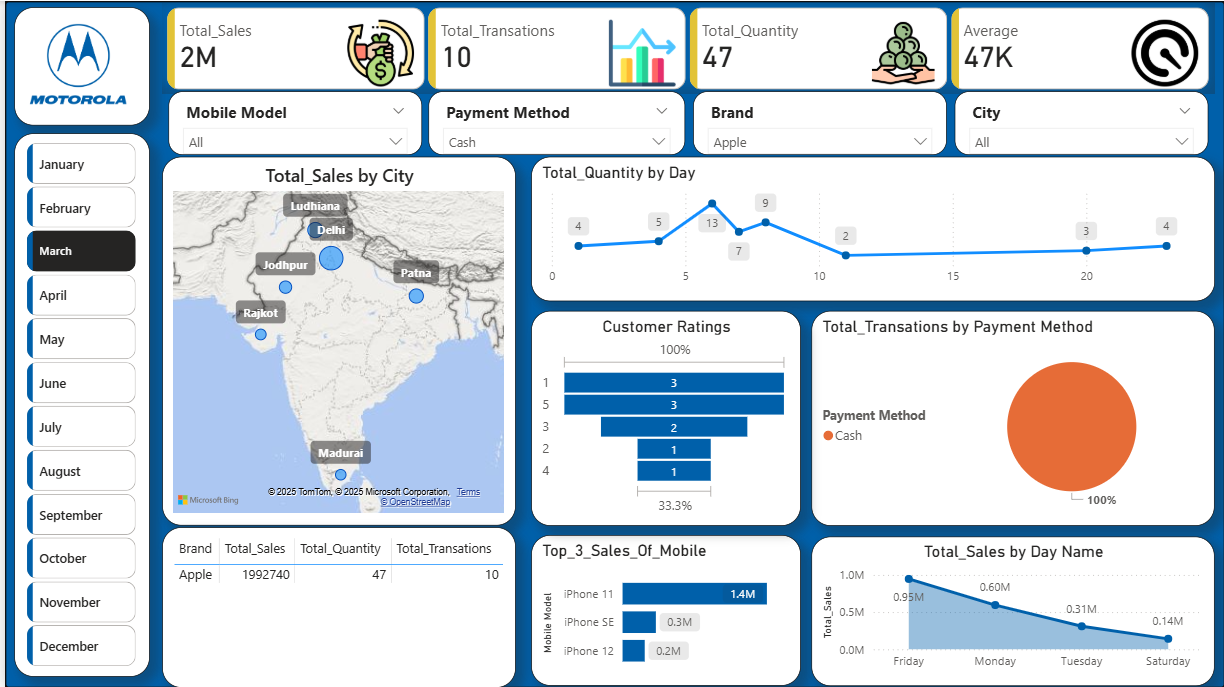

The dashboard page shown, as its layout file describes it:
{"tool":"powerbi","page":{"name":"Page 1","canvas":[1280,720],"ordinal":0},"visuals":[{"type":"shape","box":[9.8,6.5,142,124],"z":0},{"type":"image","box":[19.6,0,114.3,132.2],"z":1000},{"type":"shape","box":[9.8,138.7,142,569.7],"z":2000},{"type":"advancedSlicerVisual","fields":{"Values":["Sheet1.Date.Variation.Date Hierarchy.Month"]},"box":[18,143.6,124.1,564.8],"z":3000},{"type":"cardVisual","fields":{"Data":["Sales_data.Total_Sales","Sales_data.Total_Transations","Sales_data.Total_Quantity","Sales_data.Average"]},"box":[164.9,1.6,1103.4,96.3],"z":4000},{"type":"map","fields":{"Category":["Sales_data.City"],"Size":["Sales_data.Total_Sales"]},"box":[164.9,163.2,370.5,386.8],"z":5000},{"type":"lineChart","fields":{"Category":["Sales_data.Date.Variation.Date Hierarchy.Month","Sales_data.Date.Variation.Date Hierarchy.Day"],"Y":["Sales_data.Total_Quantity"]},"box":[551.7,163.2,716.6,151.8],"z":6000},{"type":"clusteredBarChart","title":"Top_3_Sales_Of_Mobile","fields":{"Category":["Sales_data.Mobile Model"],"Y":["Sales_data.Total_Sales"]},"box":[551.7,559.9,282.4,158.3],"z":7000},{"type":"pieChart","fields":{"Y":["Sales_data.Total_Transations"],"Category":["Sales_data.Payment Method"]},"box":[845.5,324.8,422.8,225.3],"z":8000},{"type":"funnel","title":"Customer Ratings ","fields":{"Category":["Sales_data.Customer Ratings"],"Y":["CountNonNull(Sales_data.Customer Ratings)"]},"box":[551.7,324.8,282.4,225.3],"z":9000},{"type":"areaChart","fields":{"Category":["Sales_data.Day Name"],"Y":["Sales_data.Total_Sales"]},"box":[845.5,561.5,422.8,156.7],"z":10000},{"type":"tableEx","fields":{"Values":["Sales_data.Brand","Sales_data.Total_Sales","Sales_data.Total_Quantity","Sales_data.Total_Transations"]},"box":[164.9,551.7,370.5,168.1],"z":11000},{"type":"slicer","fields":{"Values":["Sales_data.Mobile Model"]},"box":[171.4,94.7,266.1,66.9],"z":12000},{"type":"slicer","fields":{"Values":["Sales_data.Payment Method"]},"box":[444,94.7,269.3,66.9],"z":13000},{"type":"slicer","fields":{"Values":["Sales_data.Brand"]},"box":[721.5,94.7,266.1,66.9],"z":14000},{"type":"slicer","fields":{"Values":["Sales_data.City"]},"box":[995.7,94.7,266.1,66.9],"z":15000}]}

Visuals, with their boxes in screenshot pixels (x1, y1, x2, y2), scaled from the page's 1280x720 canvas onto the 1224x687 screenshot:
shape: region(9, 6, 145, 125)
image: region(19, 0, 128, 126)
shape: region(9, 132, 145, 676)
advancedSlicerVisual - Sheet1.Date.Variation.Date Hierarchy.Month: region(17, 137, 136, 676)
cardVisual - Sales_data.Total_Sales x Sales_data.Total_Transations: region(158, 2, 1213, 93)
map - Sales_data.City x Sales_data.Total_Sales: region(158, 156, 512, 525)
lineChart - Sales_data.Date.Variation.Date Hierarchy.Month x Sales_data.Date.Variation.Date Hierarchy.Day: region(528, 156, 1213, 301)
"Top_3_Sales_Of_Mobile" clusteredBarChart: region(528, 534, 798, 685)
pieChart - Sales_data.Total_Transations x Sales_data.Payment Method: region(809, 310, 1213, 525)
"Customer Ratings " funnel: region(528, 310, 798, 525)
areaChart - Sales_data.Day Name x Sales_data.Total_Sales: region(809, 536, 1213, 685)
tableEx - Sales_data.Brand x Sales_data.Total_Sales: region(158, 526, 512, 686)
slicer - Sales_data.Mobile Model: region(164, 90, 418, 154)
slicer - Sales_data.Payment Method: region(425, 90, 682, 154)
slicer - Sales_data.Brand: region(690, 90, 944, 154)
slicer - Sales_data.City: region(952, 90, 1207, 154)
